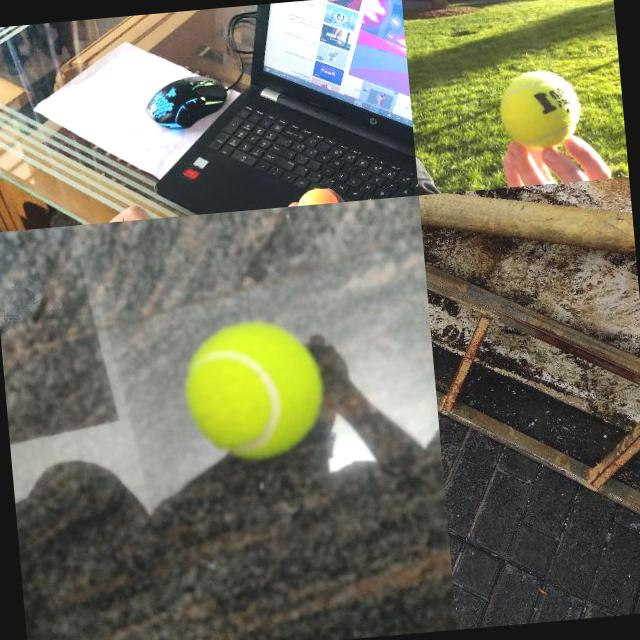Tennis Ball: (180, 314, 330, 466), (496, 66, 585, 152)
